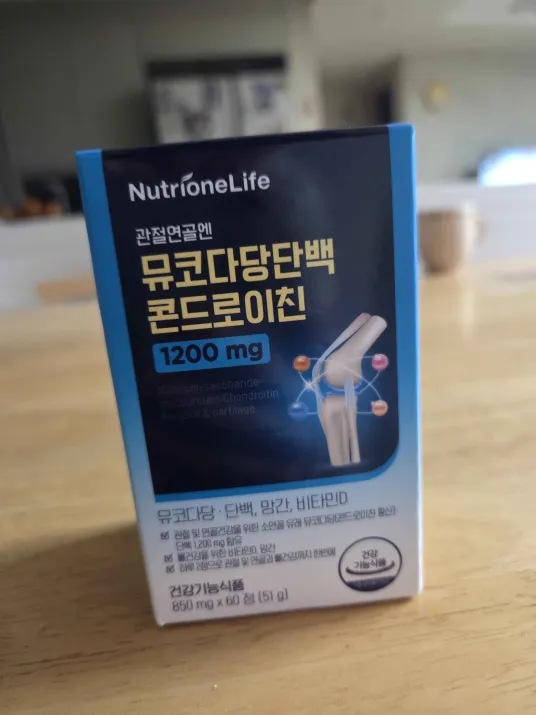supplement_label: (69, 114, 420, 633)
